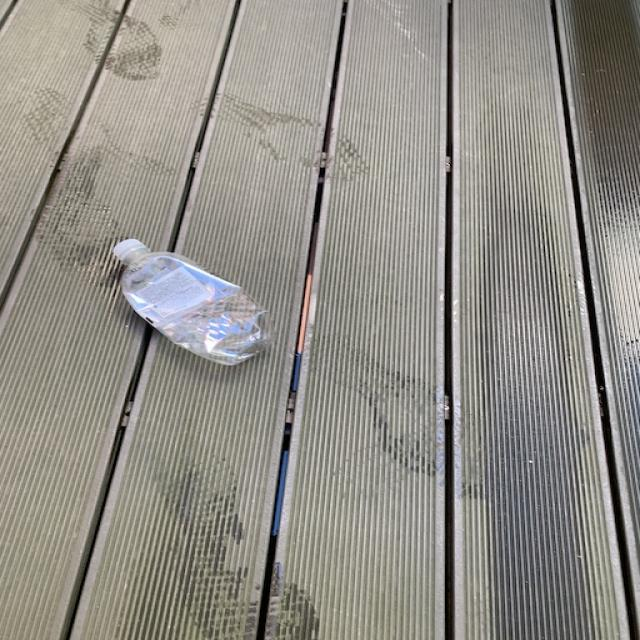Waste: (112, 239, 271, 365)
